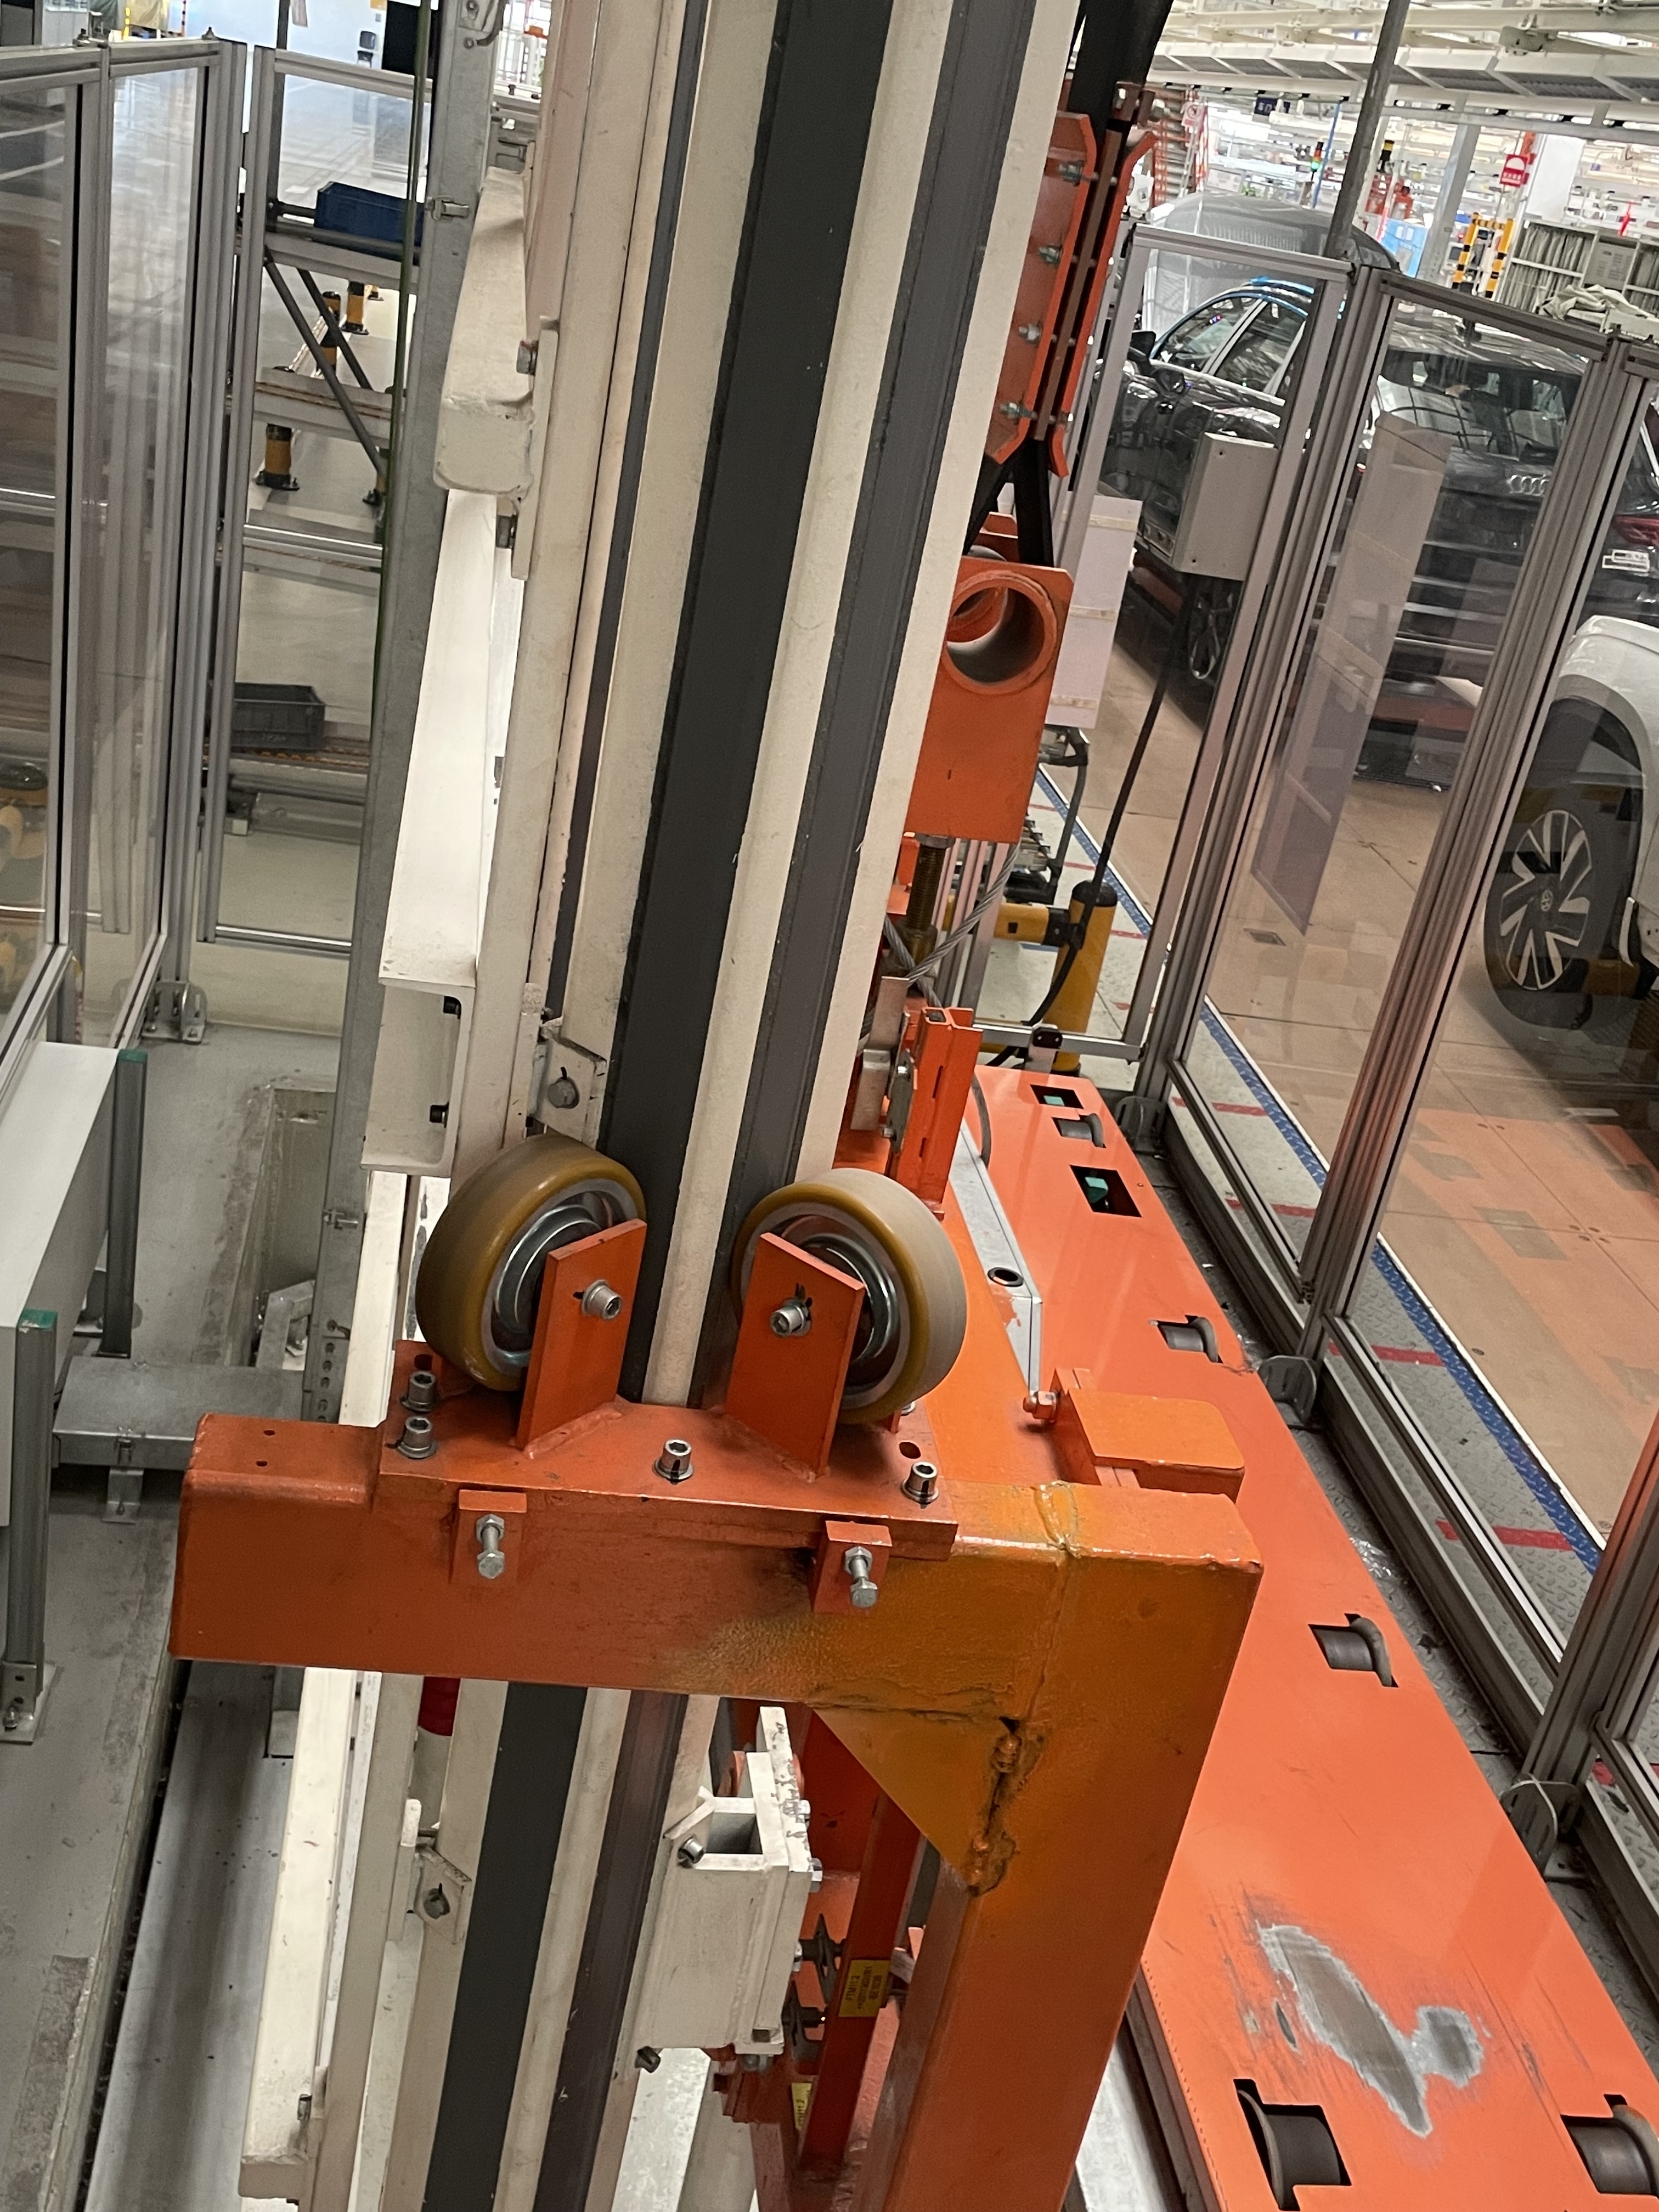good_wheel: (702, 1163, 986, 1442), (413, 1132, 638, 1413)
